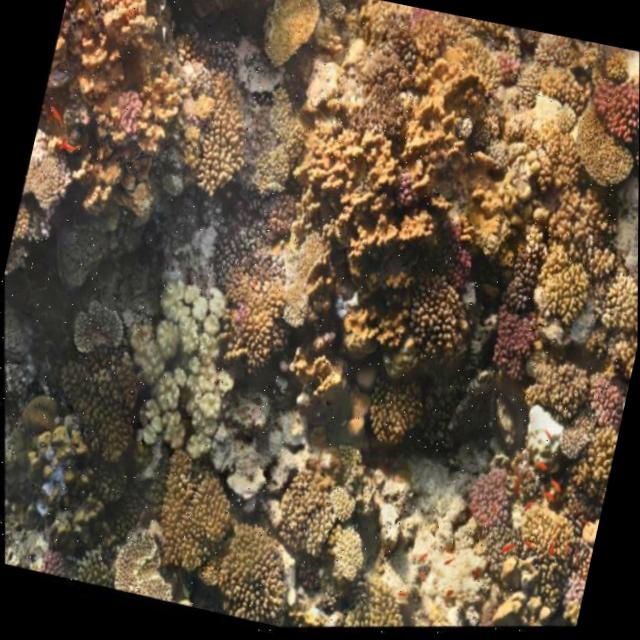Bleached Coral: (91, 262, 273, 497), (24, 128, 57, 183)
Healthy Coral: (27, 0, 293, 204), (136, 497, 329, 638), (456, 257, 537, 377), (576, 339, 638, 430), (467, 450, 531, 521), (371, 374, 426, 443), (581, 83, 639, 144)
